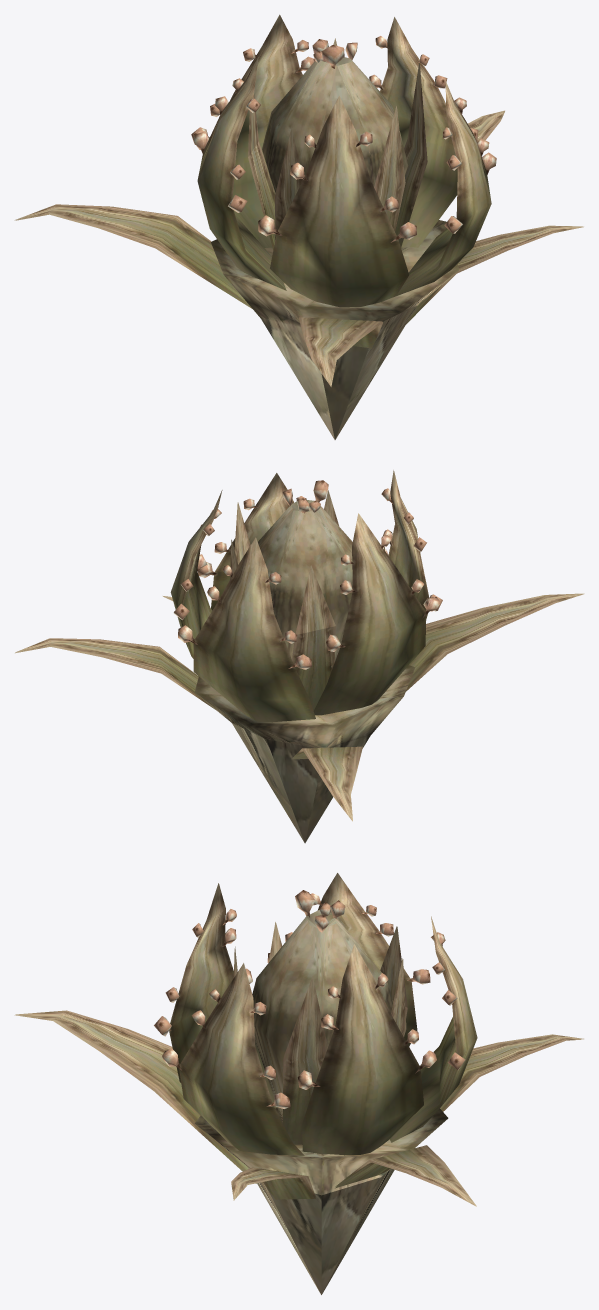
The model's file is falotil_nuts_l0.fbx.
3 views of the same model, one above another, from view 1: azimuth 30°, elevation 25°; view 2: azimuth 150°, elevation 25°; view 3: azimuth 270°, elevation 25° (orthographic). The views are drawn at different scales.
Visible parts, largest first — view 1: mesh_node; view 2: mesh_node; view 3: mesh_node.
Boxes of the visible parts, <box> form: mesh_node: <box>14,14,583,439</box>; mesh_node: <box>15,470,584,843</box>; mesh_node: <box>14,873,583,1294</box>.
Size of the model in its own units: 1.44 by 1.28 by 1.65.
